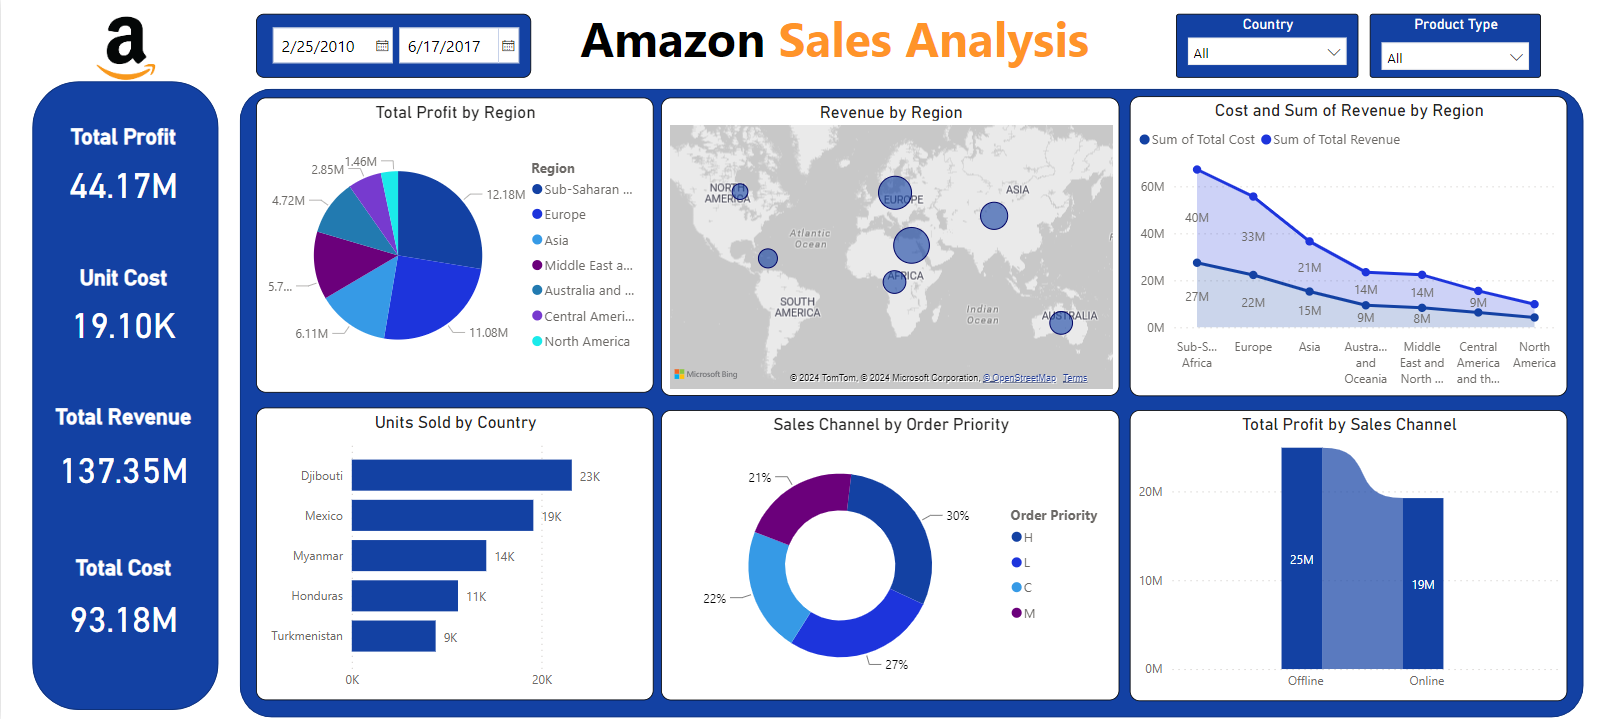

What the dashboard file says about the page in this screenshot:
{"tool":"powerbi","page":{"name":"Dashboard","canvas":[1600,720],"ordinal":0},"visuals":[{"type":"shape","box":[31.2,81.2,186.2,628.8],"z":0},{"type":"shape","box":[238.8,88.8,1343.8,628.8],"z":1000},{"type":"map","title":"Revenue by Region","fields":{"Size":["Sum(Amazon Sales data.Total Revenue)"],"Category":["Amazon Sales data.Region"]},"box":[660,97.5,458.8,298.8],"z":2000},{"type":"donutChart","title":"Sales Channel by Order Priority","fields":{"Y":["CountNonNull(Amazon Sales data.Sales Channel)"],"Category":["Amazon Sales data.Order Priority"]},"box":[660,410,458.8,290],"z":3000},{"type":"stackedAreaChart","title":"Cost and Sum of Revenue by Region","fields":{"Category":["Amazon Sales data.Region"],"Y":["Sum(Amazon Sales data.Total Cost)","Sum(Amazon Sales data.Total Revenue)"]},"box":[1128.8,96.2,437.5,300],"z":4000},{"type":"card","title":"Total Revenue","fields":{"Values":["Sum(Amazon Sales data.Total Revenue)"]},"box":[15.3,404.2,215,103.8],"z":5000},{"type":"card","title":"Total Profit","fields":{"Values":["Sum(Amazon Sales data.Total Profit)"]},"box":[15.3,123.8,215,93.8],"z":6000},{"type":"card","title":"Total Cost","fields":{"Values":["Sum(Amazon Sales data.Total Cost)"]},"box":[15.3,555,215,100],"z":7000},{"type":"card","title":"Unit Cost","fields":{"Values":["Sum(Amazon Sales data.Unit Cost)"]},"box":[15.3,264.6,215,92.5],"z":8000},{"type":"ribbonChart","title":"Total Profit by Sales Channel","fields":{"Category":["Amazon Sales data.Sales Channel"],"Y":["Sum(Amazon Sales data.Total Profit)"]},"box":[1128.8,410,437.5,291.2],"z":9000},{"type":"textbox","box":[553.8,0,560,81.2],"z":10000},{"type":"slicer","fields":{"Values":["Amazon Sales data.Ship Date"]},"box":[255,13.8,275,63.8],"z":11000},{"type":"slicer","title":"Product Type","fields":{"Values":["Amazon Sales data.Item Type"]},"box":[1368.8,13.8,171.2,63.8],"z":12000},{"type":"slicer","title":"Country","fields":{"Values":["Amazon Sales data.Country"]},"box":[1175,13.8,182.5,63.8],"z":13000},{"type":"image","box":[51.2,0,147.5,97.5],"z":14000},{"type":"pieChart","title":" Total Profit by Region","fields":{"Category":["Amazon Sales data.Region"],"Y":["Sum(Amazon Sales data.Total Profit)"]},"box":[255,97.5,397.5,295],"z":15000},{"type":"barChart","title":"Units Sold by Country","fields":{"Category":["Amazon Sales data.Country"],"Y":["Sum(Amazon Sales data.Units Sold)"]},"box":[255,407.5,397.5,292.5],"z":16000}]}

Visuals, with their boxes in screenshot pixels (x1, y1, x2, y2), scaled from the page's 1600x720 canvas onto the 1601x719 screenshot:
shape: <region>31, 81, 218, 709</region>
shape: <region>239, 89, 1584, 717</region>
"Revenue by Region" map: <region>660, 97, 1119, 396</region>
"Sales Channel by Order Priority" donutChart: <region>660, 409, 1119, 699</region>
"Cost and Sum of Revenue by Region" stackedAreaChart: <region>1130, 96, 1567, 396</region>
"Total Revenue" card: <region>15, 404, 230, 507</region>
"Total Profit" card: <region>15, 124, 230, 217</region>
"Total Cost" card: <region>15, 554, 230, 654</region>
"Unit Cost" card: <region>15, 264, 230, 357</region>
"Total Profit by Sales Channel" ribbonChart: <region>1130, 409, 1567, 700</region>
textbox: <region>554, 0, 1114, 81</region>
slicer - Amazon Sales data.Ship Date: <region>255, 14, 530, 77</region>
"Product Type" slicer: <region>1370, 14, 1541, 77</region>
"Country" slicer: <region>1176, 14, 1358, 77</region>
image: <region>51, 0, 199, 97</region>
" Total Profit by Region" pieChart: <region>255, 97, 653, 392</region>
"Units Sold by Country" barChart: <region>255, 407, 653, 699</region>
